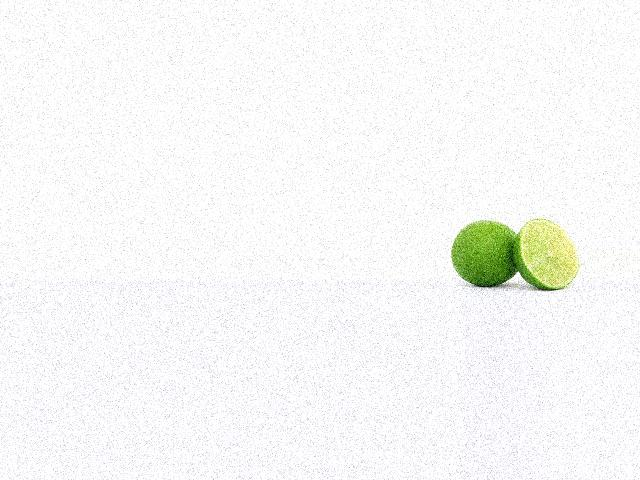lemon: (448, 218, 519, 291)
